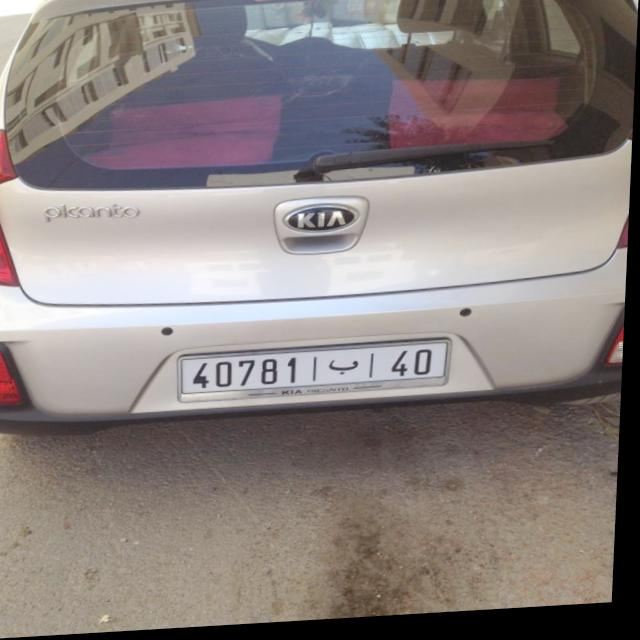License-Plate: (180, 345, 454, 406)
